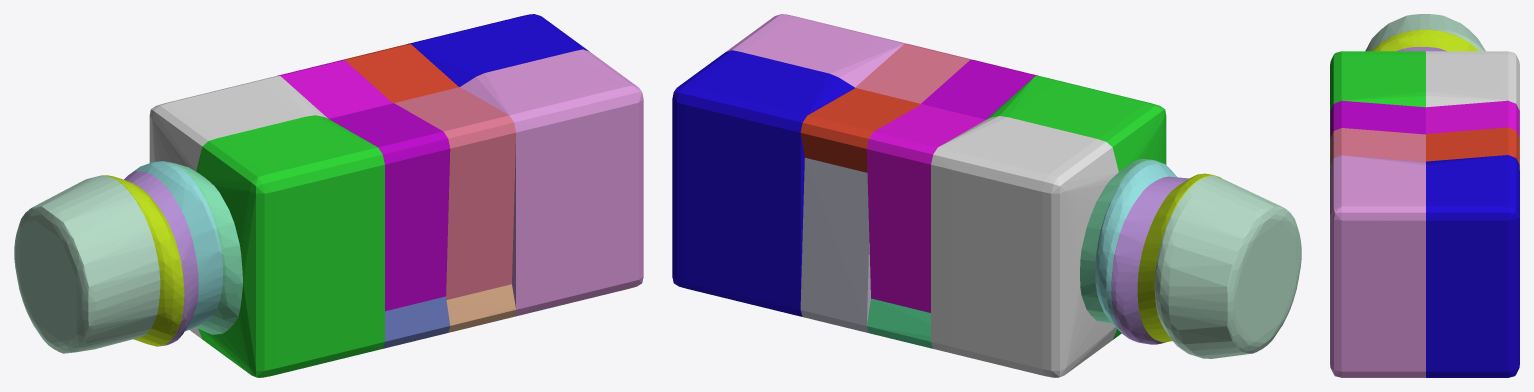
The model's file is square_table_leg4_1p5x_canonical.obj.
3 views of the same model, side by side, from view 1: azimuth 30°, elevation 25°; view 2: azimuth 150°, elevation 25°; view 3: azimuth 270°, elevation 25° (orthographic). The views are drawn at different scales.
Parts seen in each view (by area): view 1: geometry_8, geometry_7, geometry_0, geometry_13, geometry_11, geometry_6, geometry_5, geometry_2, geometry_4, geometry_15, geometry_14, geometry_3 (+3 smaller); view 2: geometry_6, geometry_5, geometry_0, geometry_14, geometry_12, geometry_8, geometry_7, geometry_15, geometry_1, geometry_13, geometry_11, geometry_2 (+3 smaller); view 3: geometry_7, geometry_5, geometry_8, geometry_6, geometry_13, geometry_11, geometry_15, geometry_14, geometry_0, geometry_4, geometry_1.
Part boxes in pixels (bbox=[...]): geometry_8: bbox=[196, 115, 384, 377]; geometry_7: bbox=[460, 49, 643, 316]; geometry_0: bbox=[14, 175, 160, 353]; geometry_13: bbox=[394, 87, 515, 299]; geometry_11: bbox=[329, 103, 450, 311]; geometry_6: bbox=[149, 76, 327, 338]; geometry_5: bbox=[407, 14, 589, 86]; geometry_2: bbox=[129, 161, 222, 331]; geometry_4: bbox=[101, 175, 184, 346]; geometry_15: bbox=[341, 44, 458, 103]; geometry_14: bbox=[277, 60, 392, 118]; geometry_3: bbox=[166, 161, 242, 334]; geometry_6: bbox=[931, 116, 1118, 377]; geometry_5: bbox=[672, 50, 854, 316]; geometry_0: bbox=[1154, 176, 1301, 358]; geometry_14: bbox=[867, 104, 985, 312]; geometry_12: bbox=[800, 157, 870, 332]; geometry_8: bbox=[987, 76, 1166, 339]; geometry_7: bbox=[726, 14, 907, 87]; geometry_15: bbox=[800, 88, 921, 172]; geometry_1: bbox=[1111, 176, 1189, 344]; geometry_13: bbox=[855, 44, 974, 103]; geometry_11: bbox=[921, 60, 1038, 119]; geometry_2: bbox=[1095, 160, 1176, 338]; geometry_7: bbox=[1330, 155, 1425, 377]; geometry_5: bbox=[1426, 155, 1519, 377]; geometry_8: bbox=[1330, 51, 1425, 169]; geometry_6: bbox=[1426, 51, 1519, 169]; geometry_13: bbox=[1330, 128, 1425, 164]; geometry_11: bbox=[1330, 100, 1425, 137]; geometry_15: bbox=[1426, 127, 1519, 164]; geometry_14: bbox=[1426, 100, 1519, 136]; geometry_0: bbox=[1365, 14, 1485, 51]; geometry_4: bbox=[1371, 29, 1479, 51]; geometry_1: bbox=[1396, 47, 1446, 51].
Bounding box in the file's own units: 0.1337 × 0.0474 × 0.0474.
